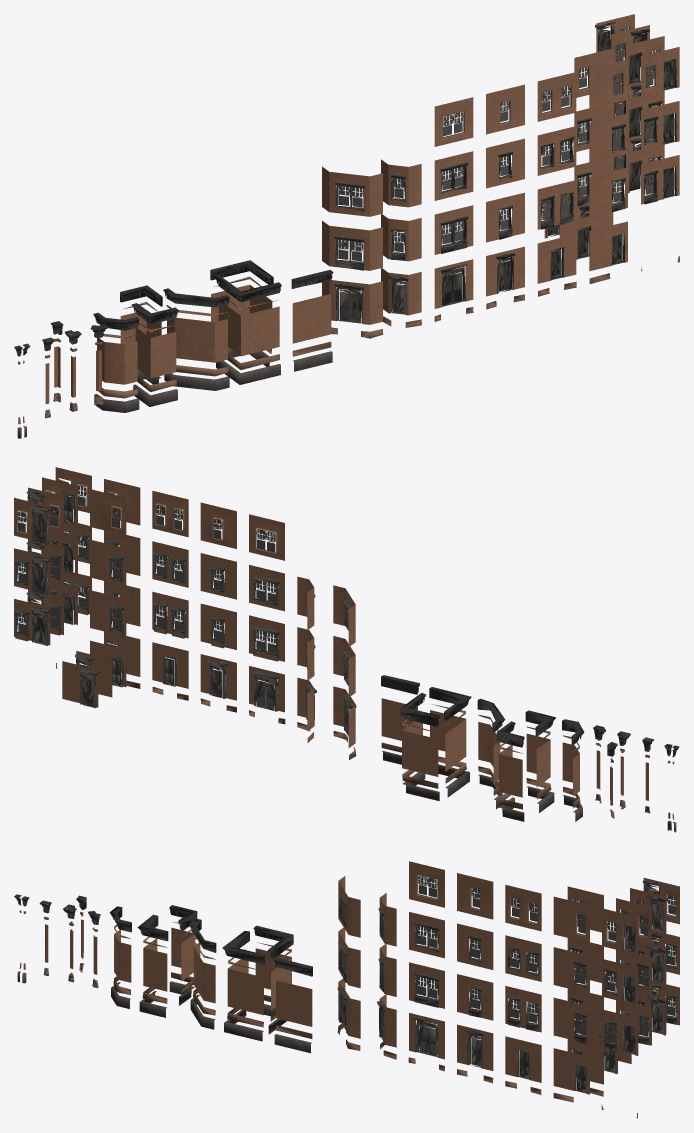
File: modular_urban_apartments_facade.glb
The picture shows the model from 3 angles, top to bottom: view 1: azimuth 30°, elevation 25°; view 2: azimuth 150°, elevation 25°; view 3: azimuth 330°, elevation 25°; orthographic projection. The views are drawn at different scales.
Parts seen in each view (by area): view 1: wall_standard_corner_large_01, wall_standard_angled_large_01, wall_window_angled_large_02, wall_window_angled_large_01, wall_standard_corner_small_01, wall_standard_standard_01, wall_standard_angled_small_01, wall_window_offset_small_05, wall_window_centered_small_03, wall_window_centered_double_03, wall_window_angled_small_02, wall_window_centered_small_02 (+37 smaller); view 2: wall_standard_corner_large_02, wall_standard_corner_large_01, wall_window_offset_small_06, wall_window_centered_small_03, wall_window_offset_small_04, wall_window_centered_small_02, wall_window_centered_double_03, wall_window_centered_small_01, wall_window_offset_small_02, wall_standard_corner_small_01, wall_door_centered_small_02, wall_standard_corner_small_02 (+41 smaller); view 3: wall_standard_corner_large_01, wall_standard_standard_01, wall_window_offset_small_05, wall_window_centered_small_03, wall_window_centered_small_02, wall_window_offset_small_03, wall_window_centered_double_03, wall_window_centered_small_01, wall_door_centered_small_02, wall_door_offset_small_01, wall_window_offset_small_01, wall_standard_corner_small_01 (+50 smaller).
Boxes of the visible parts, x1,y1,x2,y2 form: wall_standard_corner_large_01: [218, 305, 279, 356]; wall_standard_angled_large_01: [167, 318, 227, 362]; wall_window_angled_large_02: [322, 166, 382, 216]; wall_window_angled_large_01: [322, 220, 382, 270]; wall_standard_corner_small_01: [135, 328, 176, 378]; wall_standard_standard_01: [292, 294, 331, 343]; wall_standard_angled_small_01: [97, 338, 137, 384]; wall_window_offset_small_05: [589, 59, 627, 109]; wall_window_centered_small_03: [486, 84, 524, 134]; wall_window_centered_double_03: [537, 72, 576, 121]; wall_window_angled_small_02: [381, 159, 421, 207]; wall_window_centered_small_02: [486, 138, 524, 188]; wall_standard_corner_large_02: [402, 721, 438, 776]; wall_standard_corner_large_01: [430, 710, 466, 771]; wall_window_offset_small_06: [90, 489, 126, 535]; wall_window_centered_small_03: [200, 502, 236, 548]; wall_window_offset_small_04: [90, 539, 126, 585]; wall_window_centered_small_02: [200, 553, 236, 599]; wall_window_centered_double_03: [152, 490, 188, 537]; wall_window_centered_small_01: [200, 603, 236, 649]; wall_window_offset_small_02: [90, 590, 126, 636]; wall_standard_corner_small_01: [526, 733, 550, 786]; wall_door_centered_small_02: [152, 642, 188, 688]; wall_standard_corner_small_02: [498, 745, 522, 797]; wall_standard_corner_large_01: [227, 959, 263, 1015]; wall_standard_standard_01: [276, 980, 312, 1026]; wall_window_offset_small_05: [553, 896, 589, 942]; wall_window_centered_small_03: [457, 873, 493, 919]; wall_window_centered_small_02: [457, 923, 493, 969]; wall_window_offset_small_03: [553, 947, 589, 993]; wall_window_centered_double_03: [505, 885, 541, 931]; wall_window_centered_small_01: [457, 974, 493, 1020]; wall_door_centered_small_02: [505, 1036, 541, 1082]; wall_door_offset_small_01: [553, 1048, 589, 1094]; wall_window_offset_small_01: [553, 997, 589, 1044]; wall_standard_corner_small_01: [143, 938, 167, 991].
Size of the model in its own units: 51.53 by 17 by 6.66.
Materials: 5 (5 with a texture image).
